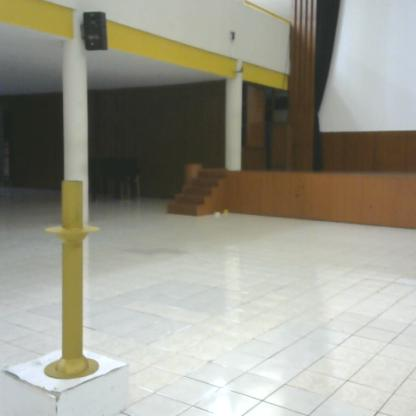pole: (41, 175, 106, 386)
